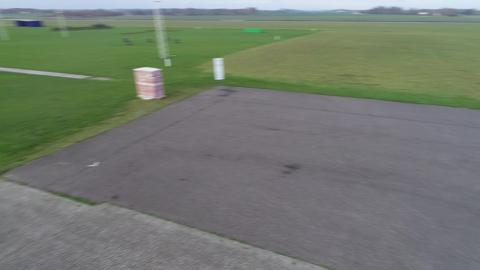RockwoolPallet: (133, 66, 167, 100)
